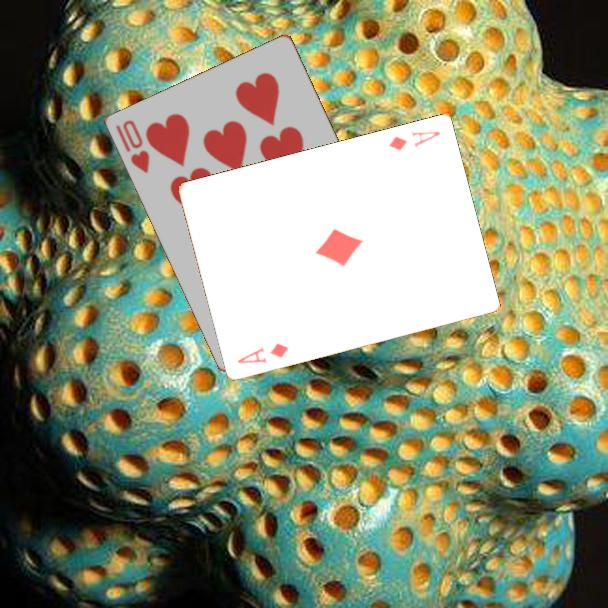d01: (233, 340, 292, 367), (385, 128, 443, 154)
h10: (112, 116, 153, 176)
